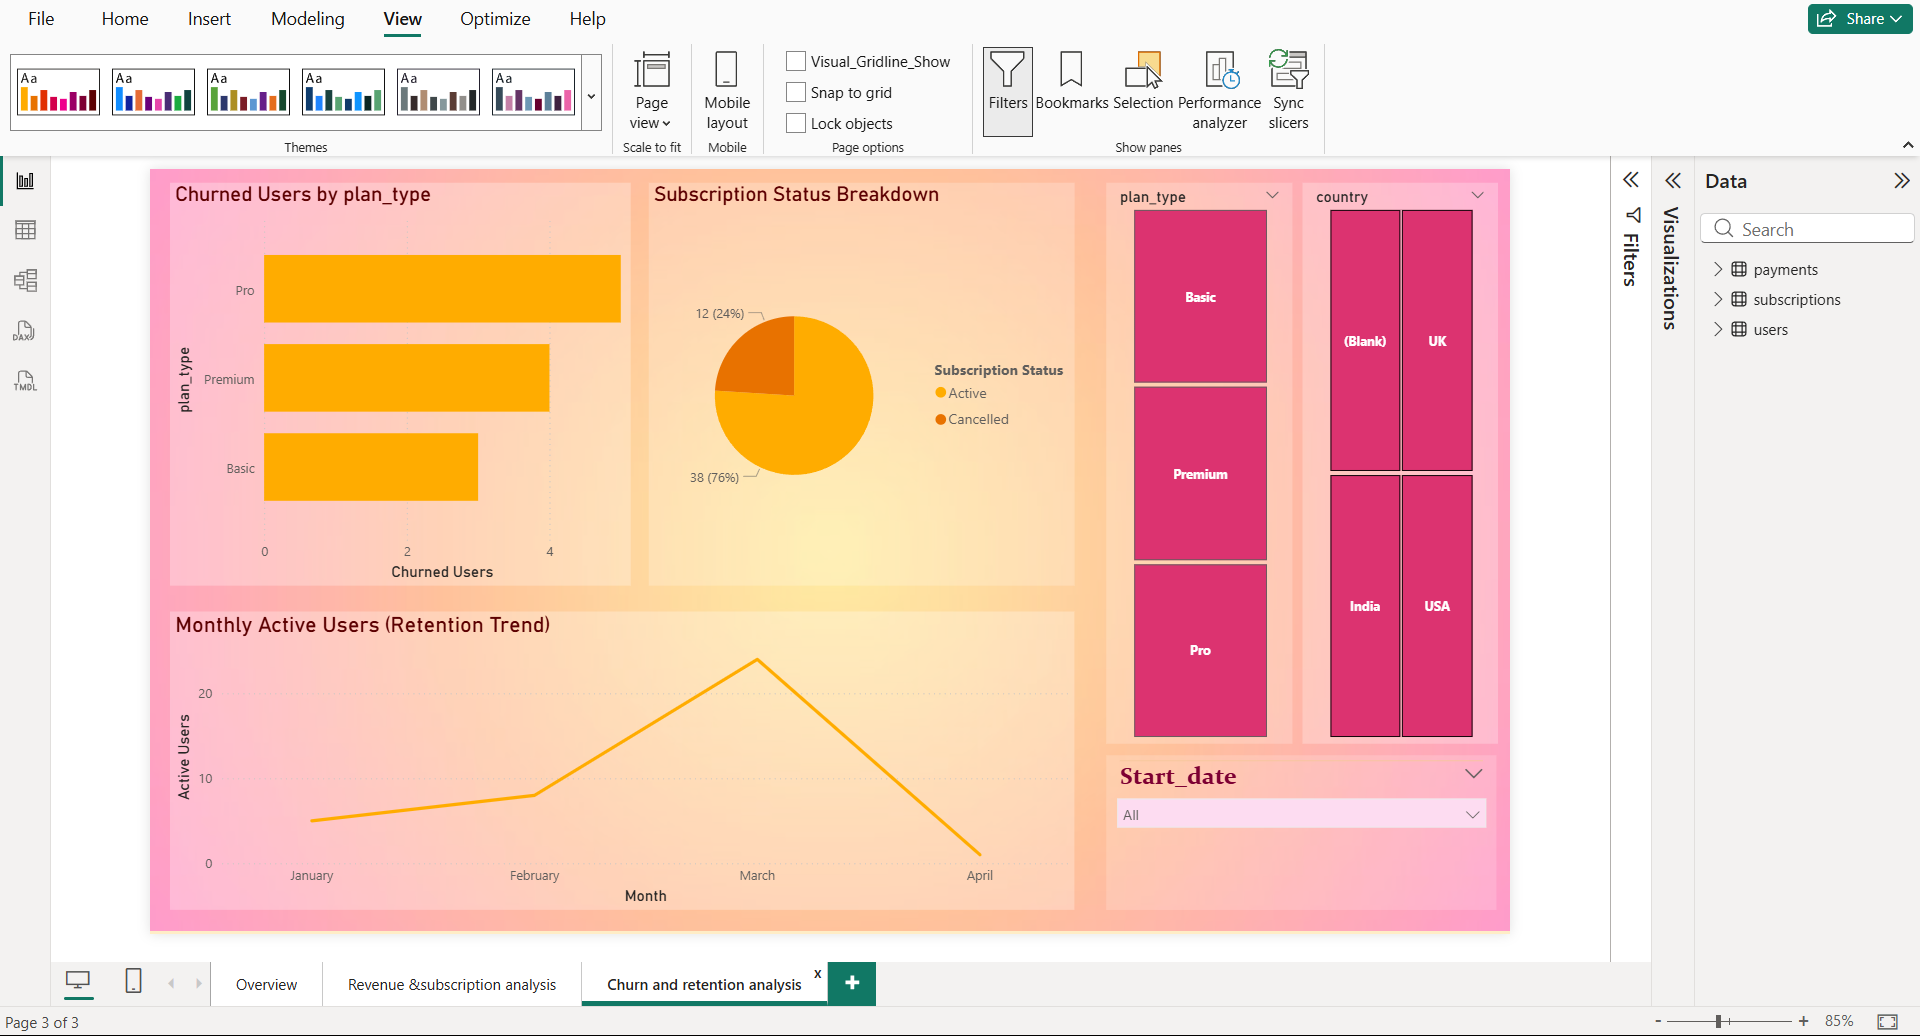

Layout of this report page (visuals, bound fields, positions):
{"tool":"powerbi","page":{"name":"Churn and retention analysis","canvas":[1280,720],"ordinal":2},"visuals":[{"type":"clusteredBarChart","fields":{"Category":["subscriptions.plan_type"],"Y":["users.Churned Users"]},"box":[19.2,13.2,433.5,379.4],"z":0},{"type":"pieChart","title":"Subscription Status Breakdown","fields":{"Category":["subscriptions.Subscription Status"],"Y":["CountNonNull(subscriptions.subscription_id)"]},"box":[469.5,13.2,401.1,379.4],"z":1000},{"type":"lineChart","title":"Monthly Active Users (Retention Trend)","fields":{"Category":["subscriptions.start_date.Variation.Date Hierarchy.Month"],"Y":["users.Active Users"]},"box":[19.2,416.7,851.3,281],"z":2000},{"type":"slicer","fields":{"Values":["subscriptions.plan_type"]},"box":[900.6,13.2,175.3,528.3],"z":3000},{"type":"slicer","title":"START DATE","fields":{"Values":["subscriptions.start_date"]},"box":[900.6,552.3,367.4,145.3],"z":4000},{"type":"slicer","fields":{"Values":["users.country"]},"box":[1084.3,13.2,183.7,528.3],"z":5000}]}

Visuals, with their boxes on the page's 1280x720 design canvas (x1, y1, x2, y2). These are canvas units, not pixel positions in the 1920x1036 screenshot, which may show the page scaled, cropped or inside an application window:
clusteredBarChart - subscriptions.plan_type x users.Churned Users: BBox(19, 13, 453, 393)
"Subscription Status Breakdown" pieChart: BBox(470, 13, 871, 393)
"Monthly Active Users (Retention Trend)" lineChart: BBox(19, 417, 870, 698)
slicer - subscriptions.plan_type: BBox(901, 13, 1076, 542)
"START DATE" slicer: BBox(901, 552, 1268, 698)
slicer - users.country: BBox(1084, 13, 1268, 542)
